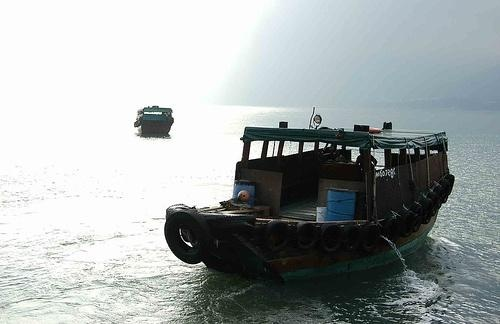boat: (161, 110, 456, 288), (135, 107, 174, 135)
